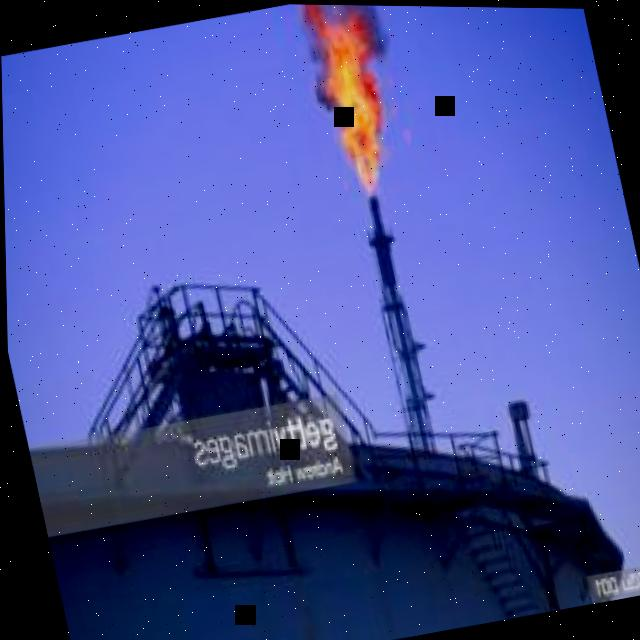fire: (301, 4, 382, 195)
smoke: (318, 4, 389, 62), (300, 19, 336, 109)
